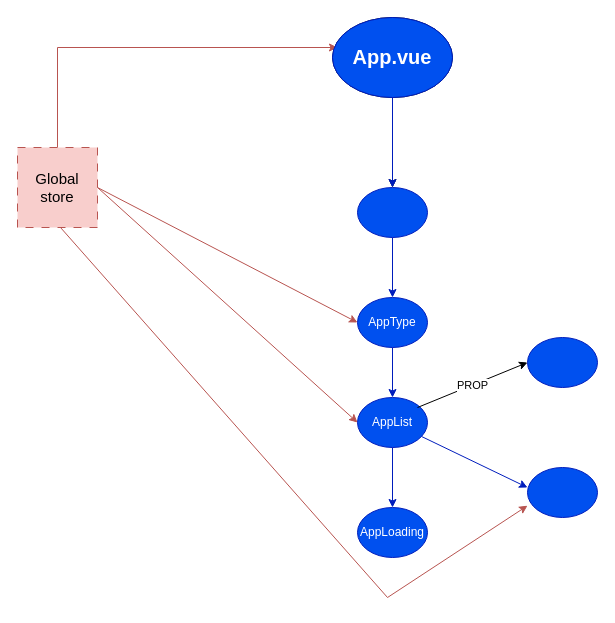
The diagram is 615 pixels wide and 623 high, and some of its shapes have lost their labels. Each missing label, with the box of its shape:
AppCard: (526, 336, 598, 388)
AppFounded: (526, 466, 598, 518)
AppHeader: (356, 186, 428, 238)
